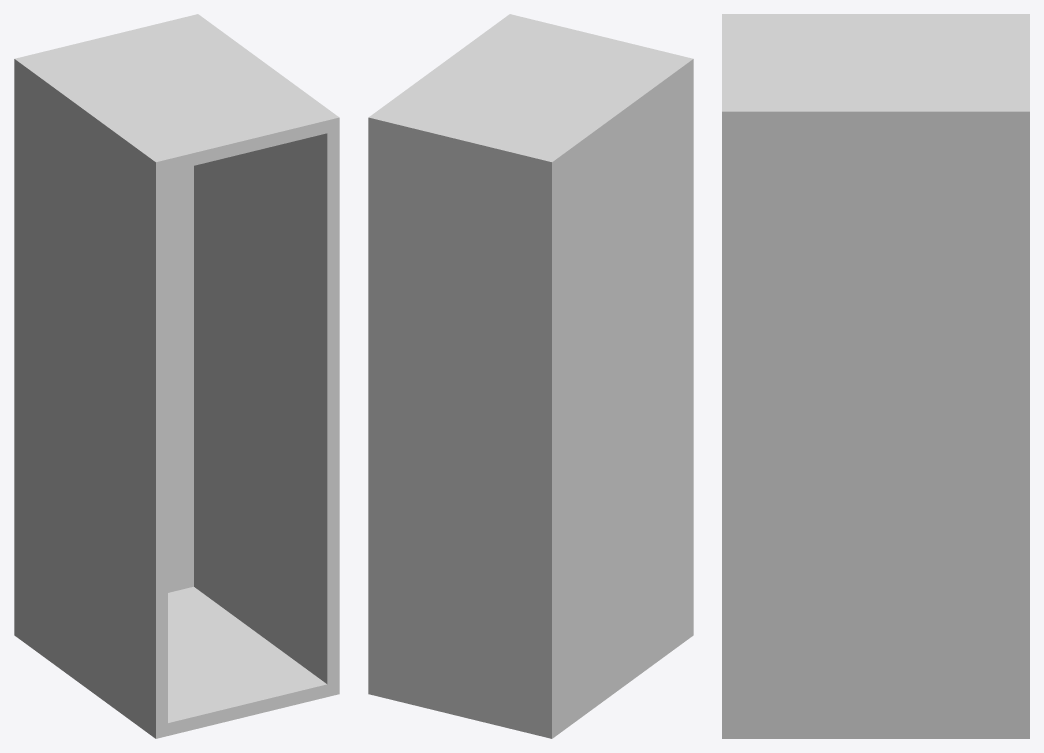
File: Kitchen1_C1_09.fbx
The picture shows the model from 3 angles, left to right: view 1: azimuth 30°, elevation 25°; view 2: azimuth 150°, elevation 25°; view 3: azimuth 270°, elevation 25°; orthographic projection. The views are drawn at different scales.
Visible parts, largest first — view 1: Kitchen1_C1_09; view 2: Kitchen1_C1_09; view 3: Kitchen1_C1_09.
Part boxes in pixels (x1=…): Kitchen1_C1_09: x1=14, y1=14, x2=339, y2=738; Kitchen1_C1_09: x1=368, y1=14, x2=693, y2=738; Kitchen1_C1_09: x1=722, y1=14, x2=1029, y2=738.
Bounding box in the file's own units: 30 × 90 × 40.
